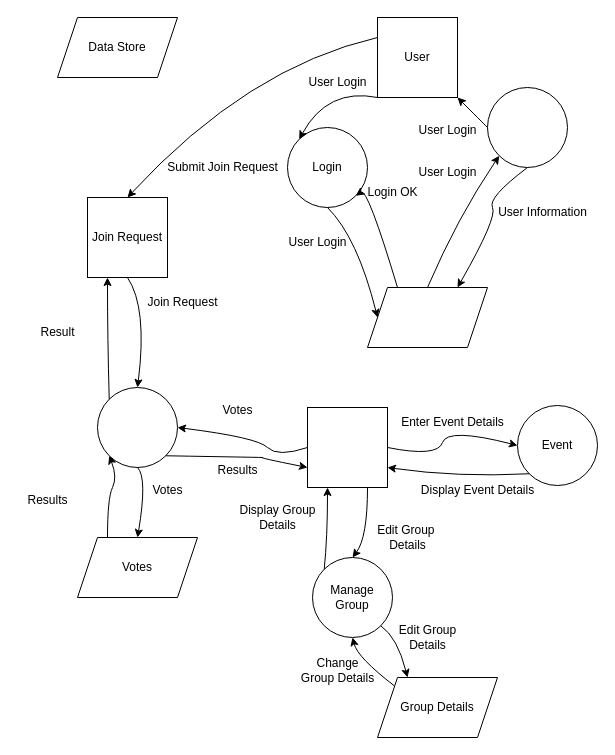
Some shapes in this 615 by 755 pixel diagram are drawn without their labels. Each missing label, with the centre of its shape:
"Group" belongs at point (347, 447).
"Register" belongs at point (527, 127).
"User Database" belongs at point (427, 317).
"Voting" belongs at point (137, 427).
